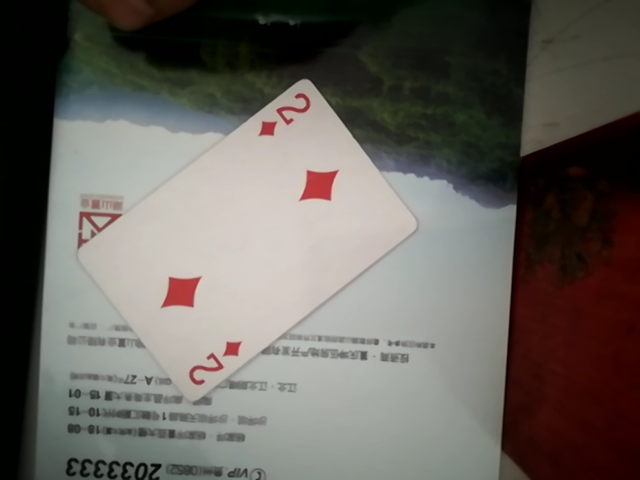fk 2: (60, 71, 405, 396)
